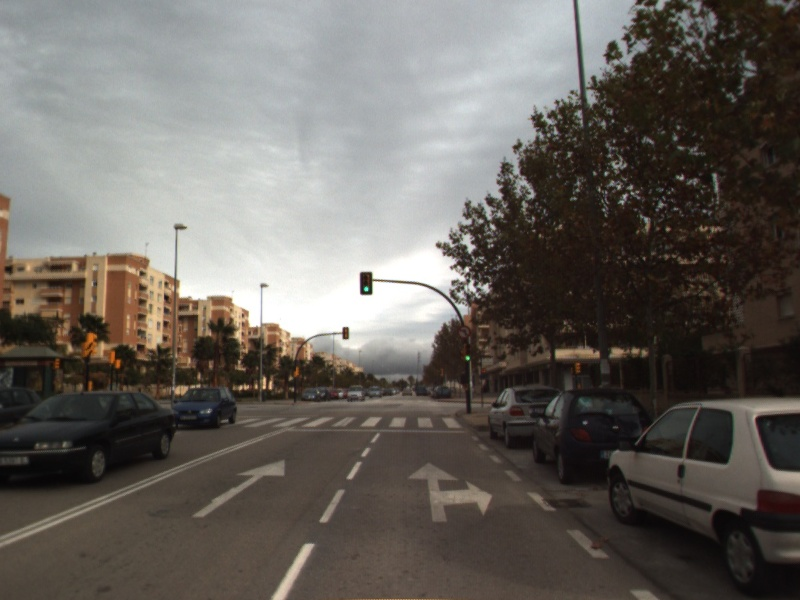STRAIGHT: (190, 457, 287, 519)
STRAIGHT_RIGHT: (405, 460, 494, 524)
